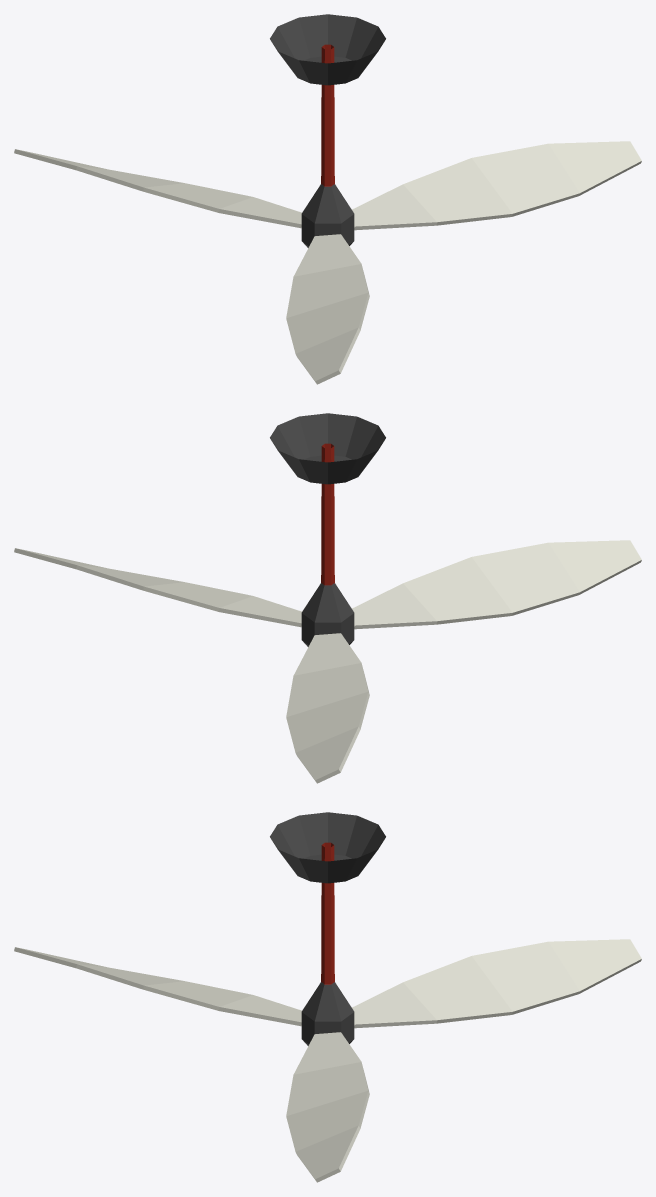
Rendered from FanCeil.fbx.
The picture shows the model from 3 angles, top to bottom: view 1: azimuth 30°, elevation 25°; view 2: azimuth 150°, elevation 25°; view 3: azimuth 270°, elevation 25°; orthographic projection.
Parts seen in each view (by area): view 1: Ceiling Fan.001, Ceiling Fan; view 2: Ceiling Fan.001, Ceiling Fan; view 3: Ceiling Fan.001, Ceiling Fan.
Part boxes in pixels (x1,y1,x2,y2): Ceiling Fan.001: (14, 141, 641, 384); Ceiling Fan: (270, 14, 385, 186); Ceiling Fan.001: (14, 540, 641, 783); Ceiling Fan: (270, 413, 385, 585); Ceiling Fan.001: (14, 939, 641, 1182); Ceiling Fan: (270, 812, 385, 984).
Bounding box in the file's own units: 104 × 45.41 × 120.
1 material, 1 textured.
